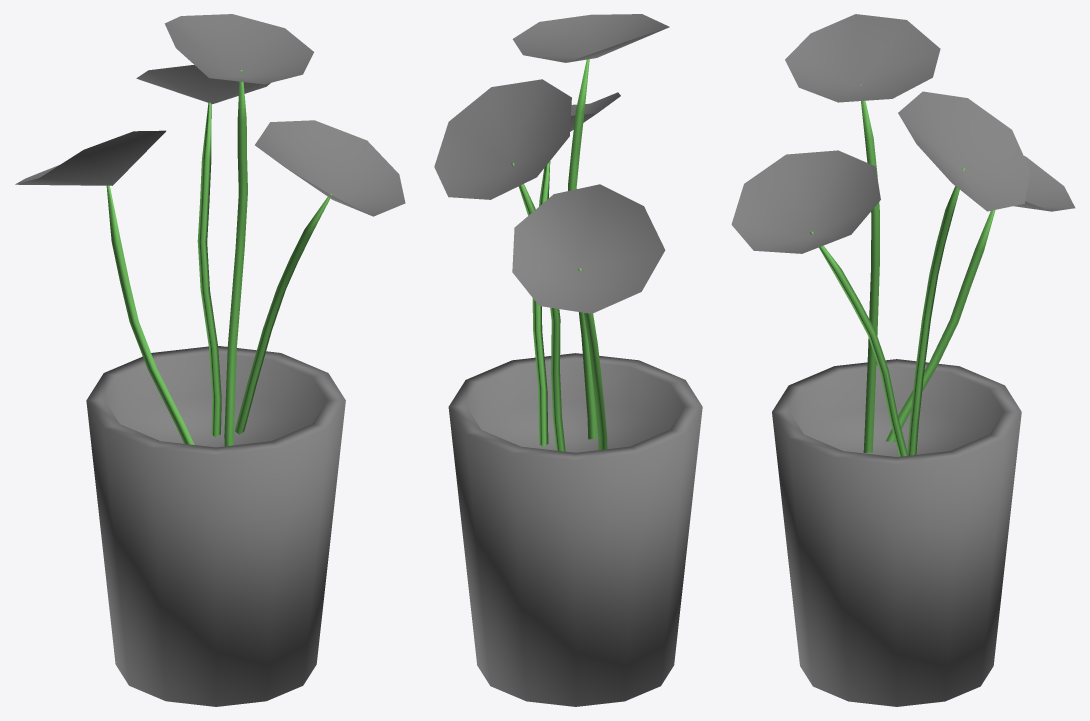
Rendered from SM_flowerpot_05.fbx.
3 renders of one model, left to right at view 1: azimuth 30°, elevation 25°; view 2: azimuth 150°, elevation 25°; view 3: azimuth 270°, elevation 25°, orthographic. The views are drawn at different scales.
Visible parts, largest first — view 1: Cylinder026; view 2: Cylinder026; view 3: Cylinder026.
Boxes of the visible parts, left/top/right/bottom form: Cylinder026: left=15, top=14, right=405, bottom=706; Cylinder026: left=434, top=14, right=702, bottom=706; Cylinder026: left=731, top=14, right=1075, bottom=706.
Bounding box in the file's own units: 8.29 × 19.12 × 9.55.
